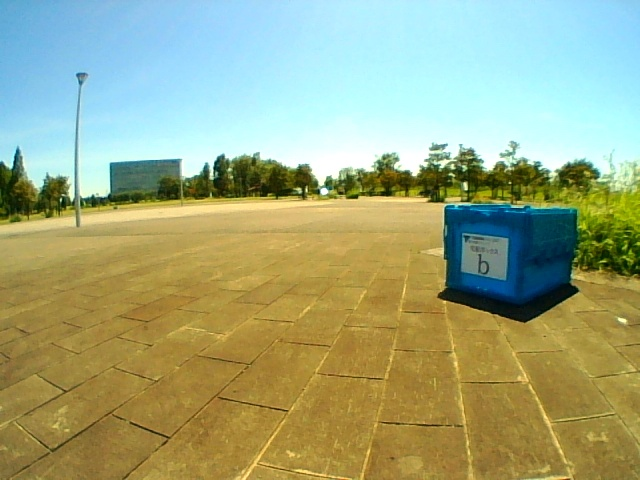blue_box: (445, 206, 572, 283)
tag_b: (463, 238, 506, 274)
